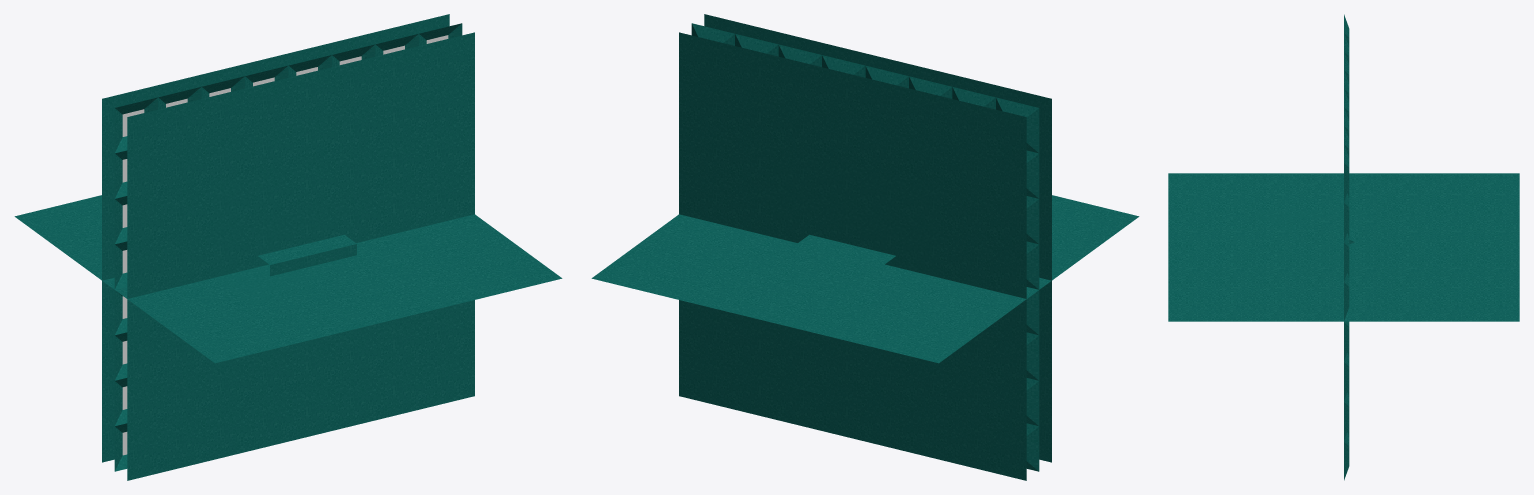
Rendered from orientation_prefabs.fbx.
3 views of the same model, side by side, from view 1: azimuth 30°, elevation 25°; view 2: azimuth 150°, elevation 25°; view 3: azimuth 270°, elevation 25° (orthographic). The views are drawn at different scales.
Visible parts, largest first — view 1: Wall_8x8, Floor_8x8, Wall_4x4, WallPanel_8x8, Floor_4x4, Wall_2x2, Platform_2x2, PlatformWall_2x2; view 2: Wall_8x8, Floor_8x8, Wall_4x4, WallPanel_8x8, Floor_4x4, Wall_2x2, Platform_2x2; view 3: Floor_8x8, WallPanel_8x8, Platform_2x2, Floor_4x4, Platform_1x1, Floor_2x2.
Boxes of the visible parts, box(x1,y1,x2,y2) form: Wall_8x8: box(102, 14, 474, 480); Floor_8x8: box(14, 195, 562, 363); Wall_4x4: box(214, 144, 387, 368); WallPanel_8x8: box(114, 23, 462, 471); Floor_4x4: box(214, 235, 424, 305); Wall_2x2: box(257, 201, 344, 266); Platform_2x2: box(258, 234, 356, 264); PlatformWall_2x2: box(270, 244, 356, 276); Wall_8x8: box(679, 14, 1051, 480); Floor_8x8: box(591, 195, 1139, 363); Wall_4x4: box(766, 144, 939, 327); WallPanel_8x8: box(691, 23, 1039, 471); Floor_4x4: box(729, 235, 939, 305); Wall_2x2: box(810, 201, 896, 266); Platform_2x2: box(797, 234, 895, 264); Floor_8x8: box(1168, 173, 1519, 321); WallPanel_8x8: box(1344, 14, 1349, 480); Platform_2x2: box(1300, 219, 1387, 255); Floor_4x4: box(1256, 210, 1397, 237); Platform_1x1: box(1322, 228, 1365, 246); Floor_2x2: box(1309, 256, 1387, 265).
Bounding box in the file's own units: 1600 × 1600 × 1600.
